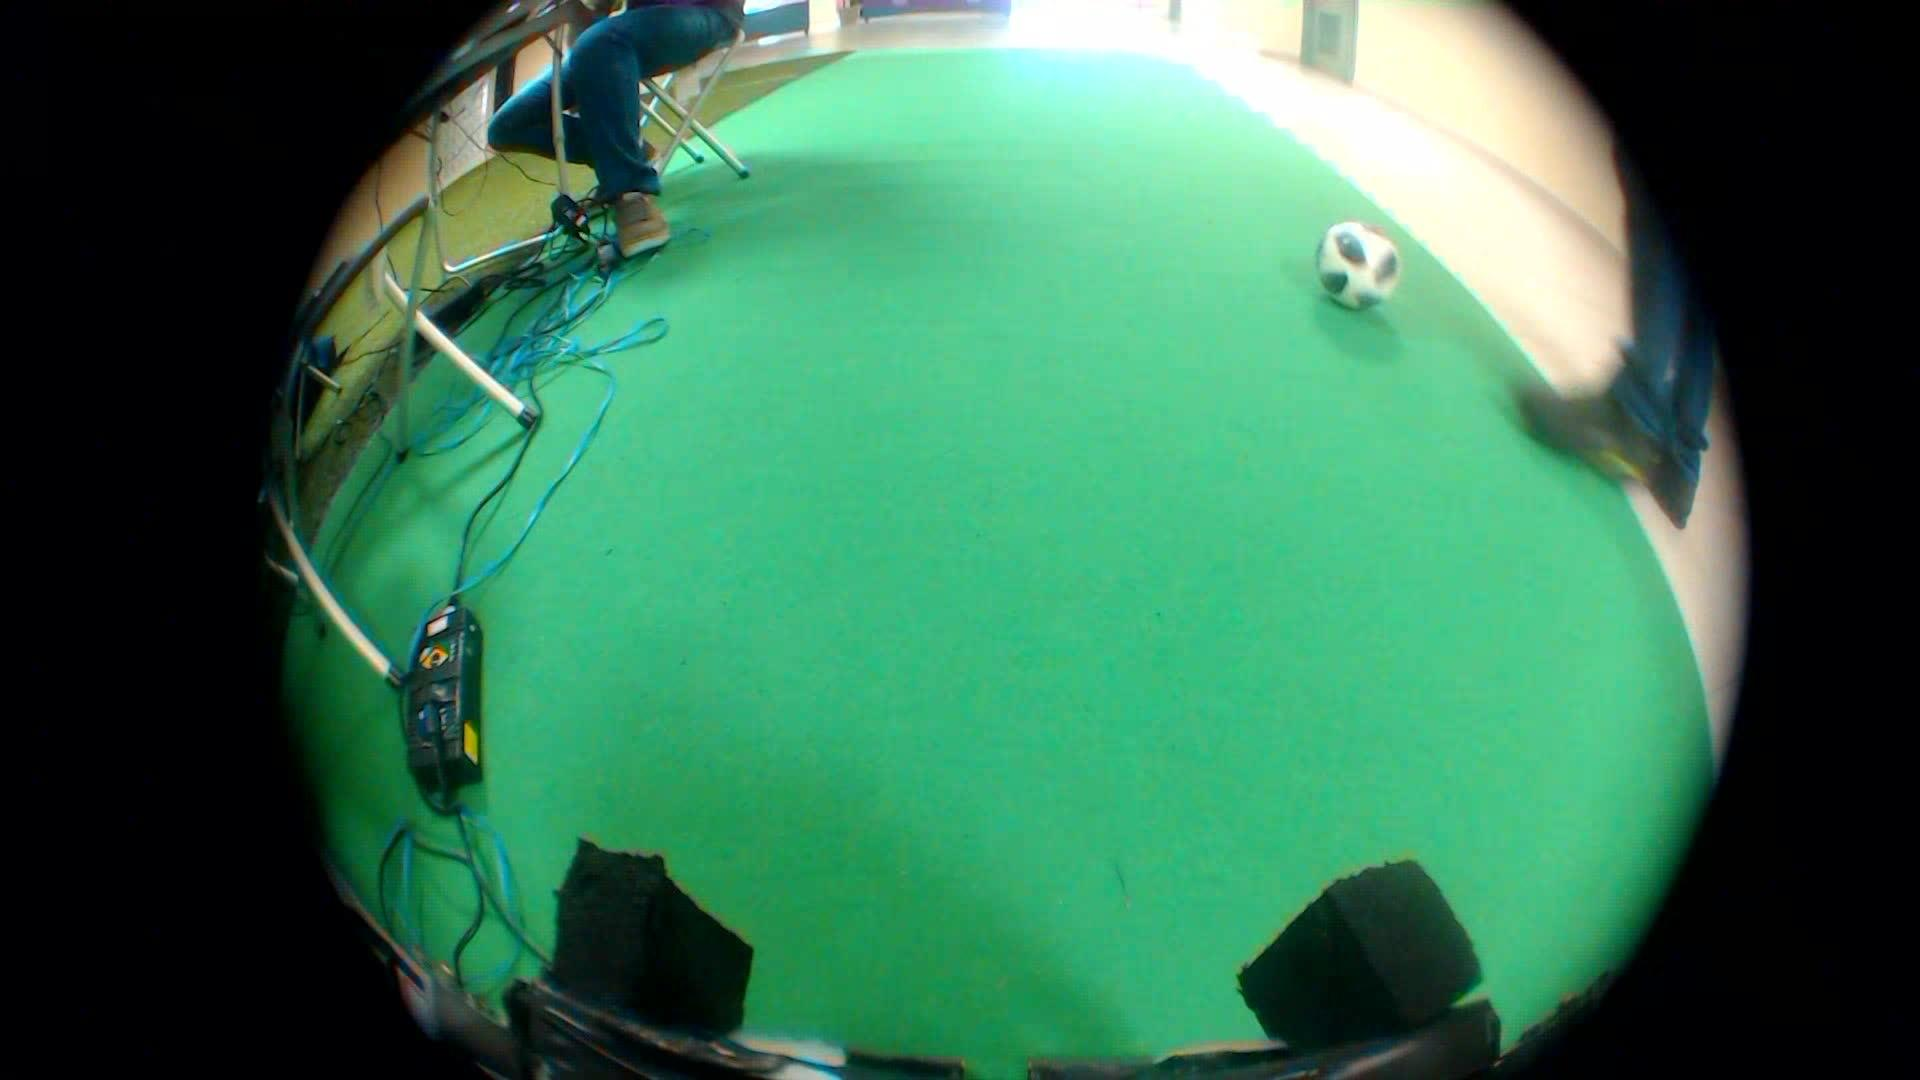ball: (1305, 211, 1406, 316)
